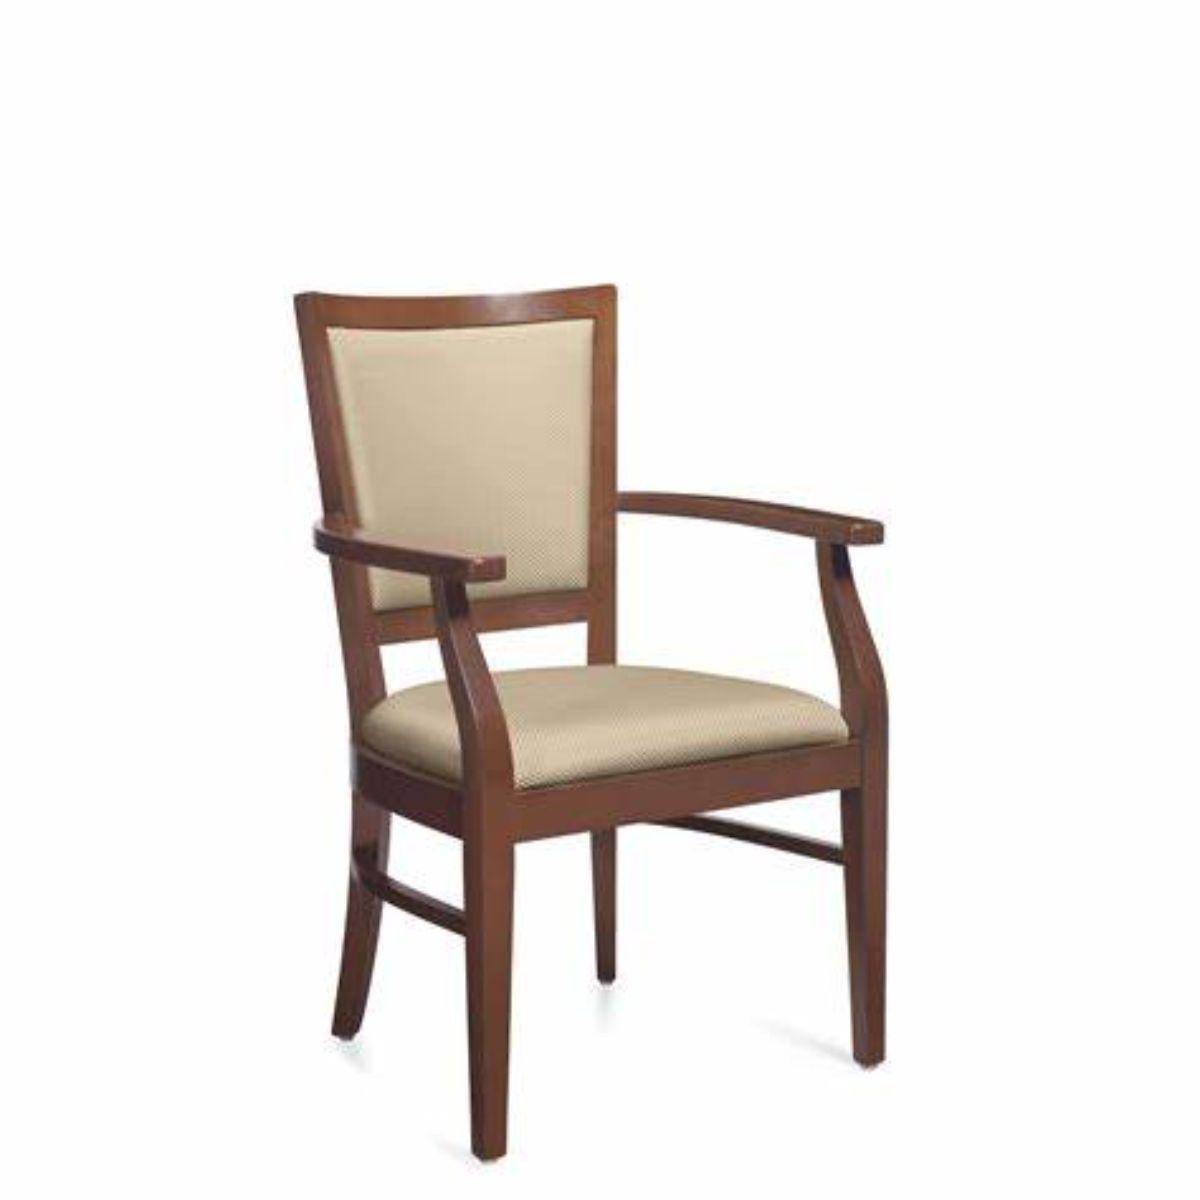Chair: (287, 283, 897, 1159)
